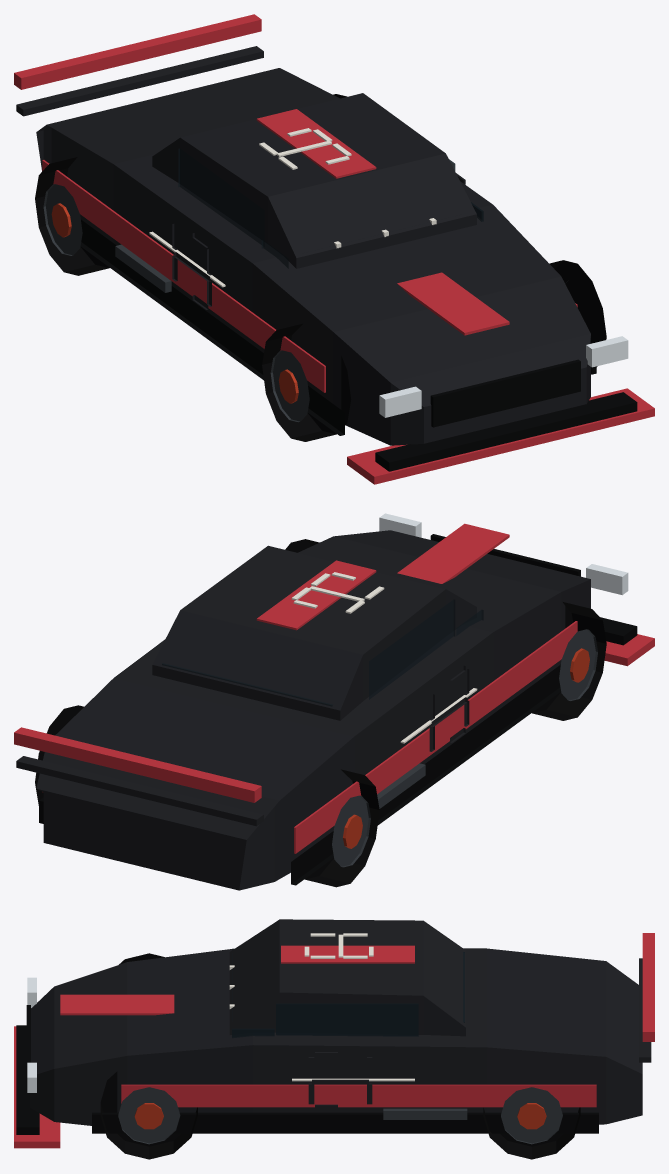
File: stock_car_08.obj
The picture shows the model from 3 angles, top to bottom: view 1: azimuth 30°, elevation 25°; view 2: azimuth 150°, elevation 25°; view 3: azimuth 270°, elevation 25°; orthographic projection. The views are drawn at different scales.
Parts seen in each view (by area): view 1: StockCar_08; view 2: StockCar_08; view 3: StockCar_08.
Part boxes in pixels (left/top/right/bottom): StockCar_08: left=14, top=14, right=654, bottom=484; StockCar_08: left=14, top=513, right=654, bottom=890; StockCar_08: left=14, top=919, right=654, bottom=1159.
Bounding box in the file's own units: 2.35 × 1.34 × 5.26.
